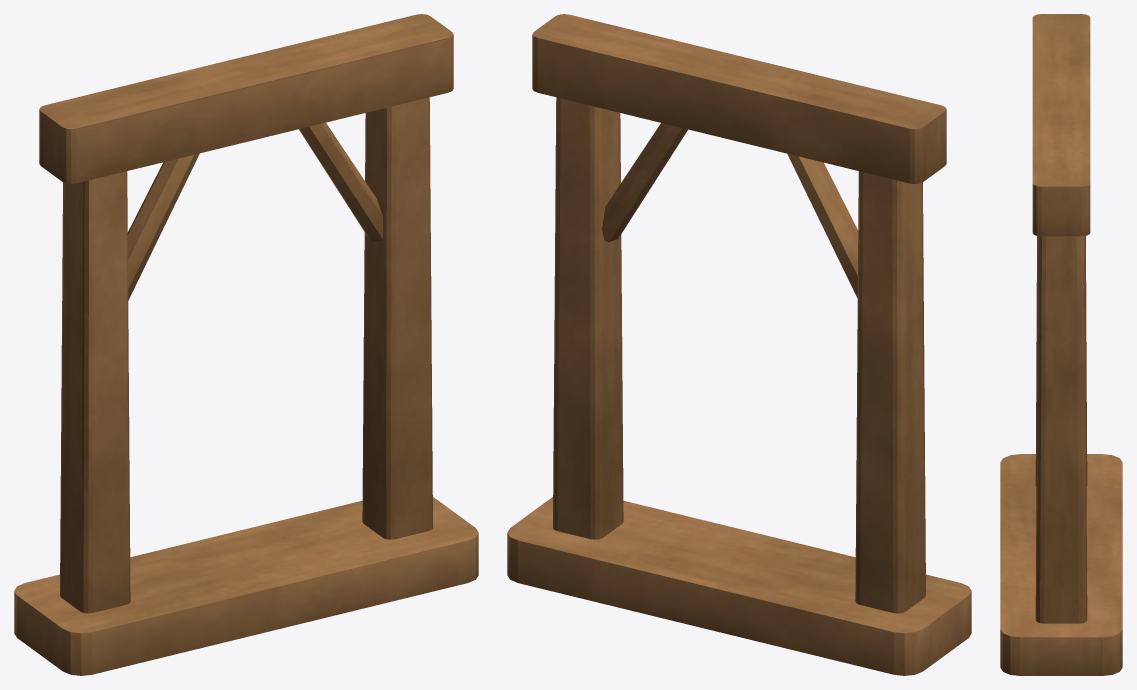
The model's file is bell_frame.glb.
3 renders of one model, left to right at view 1: azimuth 30°, elevation 25°; view 2: azimuth 150°, elevation 25°; view 3: azimuth 270°, elevation 25°, orthographic. The views are drawn at different scales.
Parts seen in each view (by area): view 1: Sill, Head, Post, Post.001, Brace, Brace.001; view 2: Sill, Head, Post, Post.001, Brace, Brace.001; view 3: Post.001, Sill, Head, Post.
Boxes of the visible parts, x1,y1,x2,y2 form: Sill: (14, 497, 478, 675); Head: (39, 14, 453, 183); Post: (60, 171, 130, 613); Post.001: (362, 97, 432, 539); Brace: (127, 153, 199, 300); Brace.001: (299, 122, 382, 241); Sill: (507, 497, 971, 675); Head: (532, 14, 946, 183); Post: (855, 171, 925, 613); Post.001: (553, 97, 623, 539); Brace: (787, 153, 858, 297); Brace.001: (602, 123, 687, 242); Post.001: (1035, 236, 1087, 623); Sill: (1000, 454, 1122, 675); Head: (1032, 14, 1090, 236); Post: (1035, 236, 1087, 486).
Size of the model in its own units: 1.42 by 1.75 by 0.4.
1 material, 1 textured.
